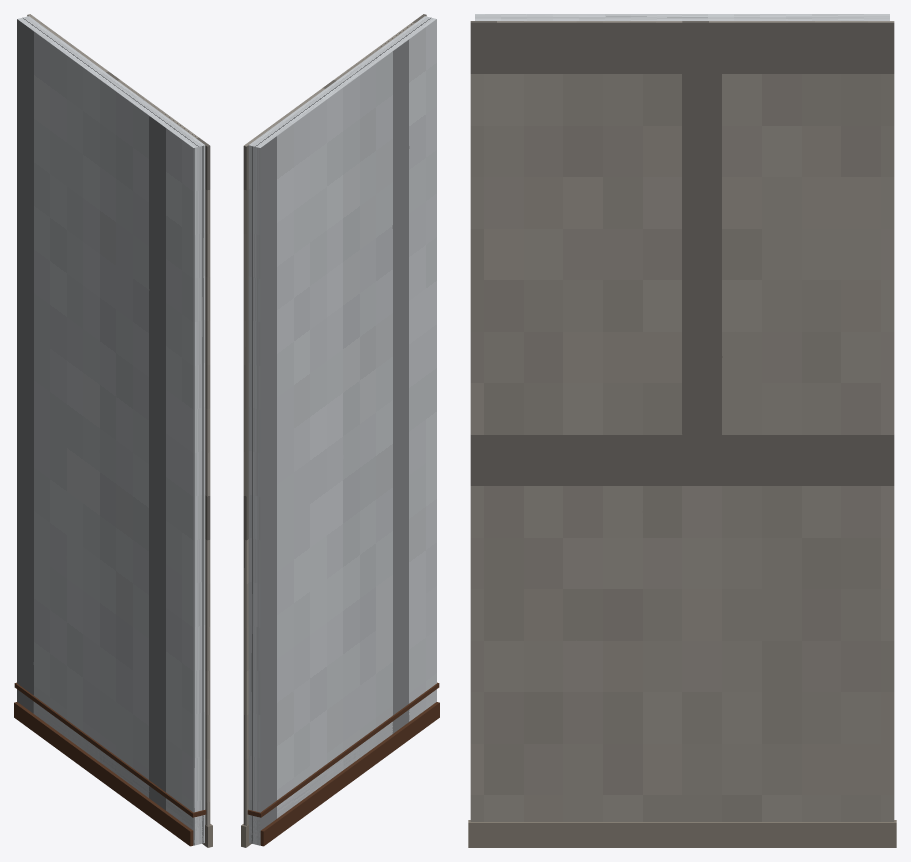
Rendered from high_right.glb.
The picture shows the model from 3 angles, left to right: view 1: azimuth 30°, elevation 25°; view 2: azimuth 150°, elevation 25°; view 3: azimuth 270°, elevation 25°; orthographic projection. The views are drawn at different scales.
Parts seen in each view (by area): view 1: Box1, Box3, Box2, Box5, Box6; view 2: Box1, Box3, Box2, Box5, Box6; view 3: Box3, Box4, Box1.
Part boxes in pixels (x1=…): Box1: x1=17, y1=16, x2=205, y2=845; Box3: x1=27, y1=14, x2=210, y2=825; Box2: x1=14, y1=702, x2=193, y2=846; Box5: x1=17, y1=690, x2=204, y2=844; Box6: x1=14, y1=682, x2=206, y2=817; Box1: x1=248, y1=16, x2=436, y2=845; Box3: x1=243, y1=14, x2=426, y2=825; Box2: x1=260, y1=702, x2=439, y2=846; Box5: x1=249, y1=689, x2=436, y2=845; Box6: x1=247, y1=682, x2=439, y2=817; Box3: x1=470, y1=21, x2=894, y2=821; Box4: x1=468, y1=820, x2=896, y2=847; Box1: x1=475, y1=14, x2=889, y2=20.
Size of the model in its own units: 0.25 by 8.44 by 3.97.
4 materials, 2 textured.
